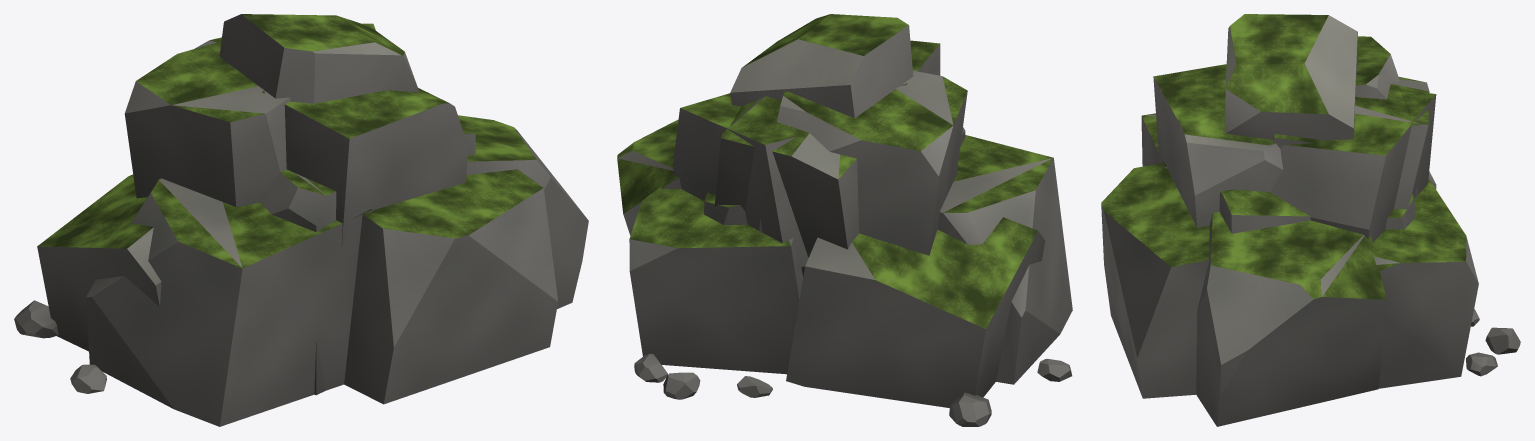
The model's file is Cracked_rock_01.lod1.glb.
3 renders of one model, left to right at view 1: azimuth 30°, elevation 25°; view 2: azimuth 150°, elevation 25°; view 3: azimuth 270°, elevation 25°, orthographic. The views are drawn at different scales.
Visible parts, largest first — view 1: Rock; view 2: Rock; view 3: Rock.
Boxes of the visible parts, <box> form: Rock: <box>14,14,588,426</box>; Rock: <box>617,14,1072,426</box>; Rock: <box>1101,14,1520,426</box>.
Bounding box in the file's own units: 3.8 × 2.34 × 3.08.
2 materials, 2 textured.
